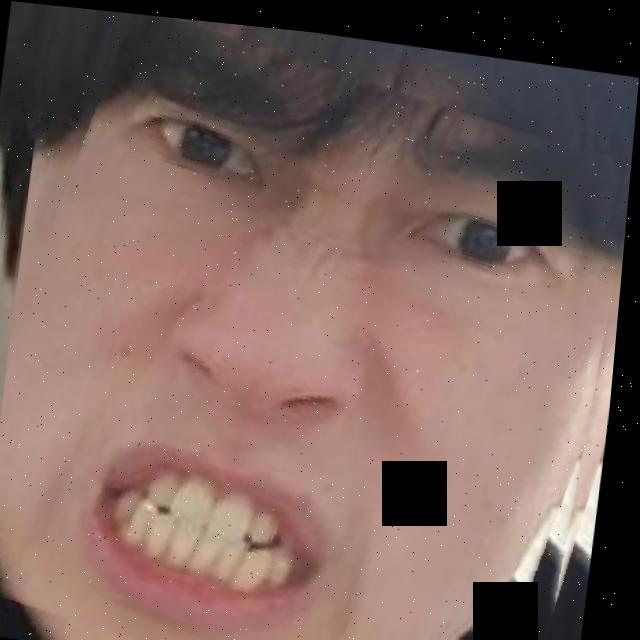anger: (0, 12, 639, 640)
